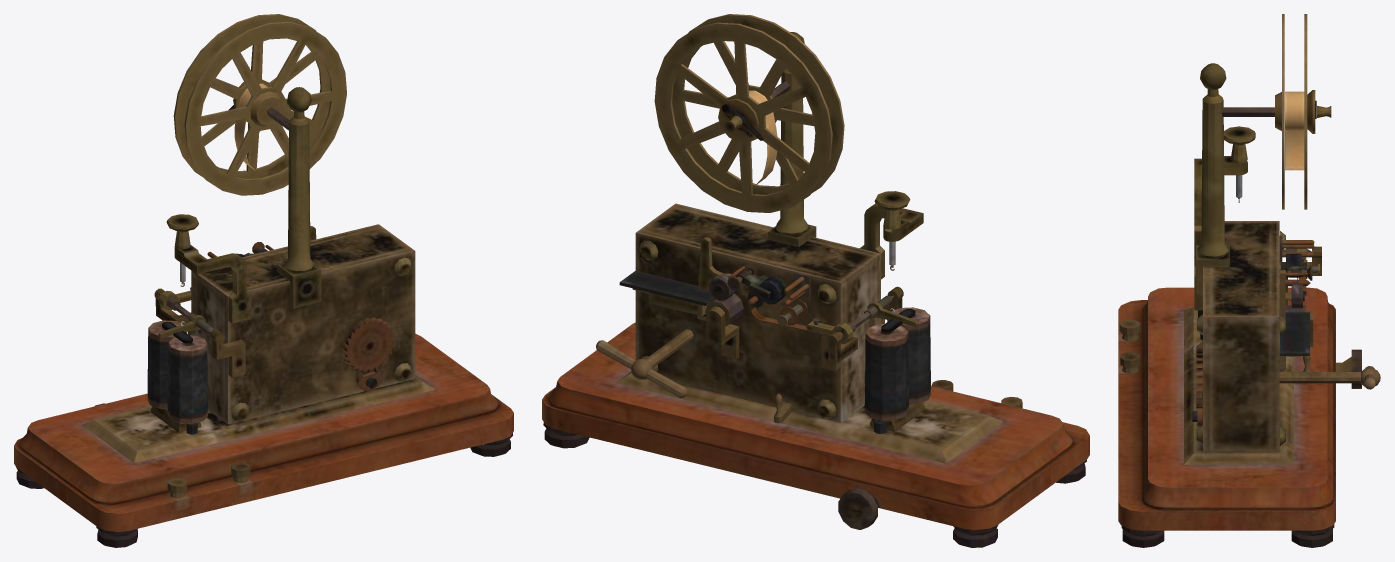
The model's file is telegraph-apparatus.glb.
The picture shows the model from 3 angles, left to right: view 1: azimuth 30°, elevation 25°; view 2: azimuth 150°, elevation 25°; view 3: azimuth 270°, elevation 25°; orthographic projection. The views are drawn at different scales.
Visible parts, largest first — view 1: telegraph-apparatus; view 2: telegraph-apparatus; view 3: telegraph-apparatus.
Boxes of the visible parts, bbox=[...] form: telegraph-apparatus: bbox=[14, 14, 513, 547]; telegraph-apparatus: bbox=[542, 14, 1089, 547]; telegraph-apparatus: bbox=[1118, 14, 1380, 547].
Size of the model in its own units: 0.7251 by 0.6971 by 0.3798.
1 material, 1 textured.
